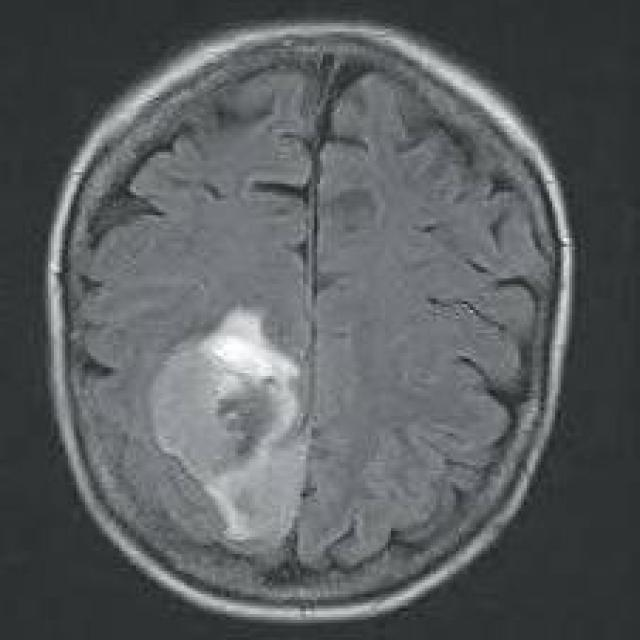brain tumor: (150, 301, 312, 554)
